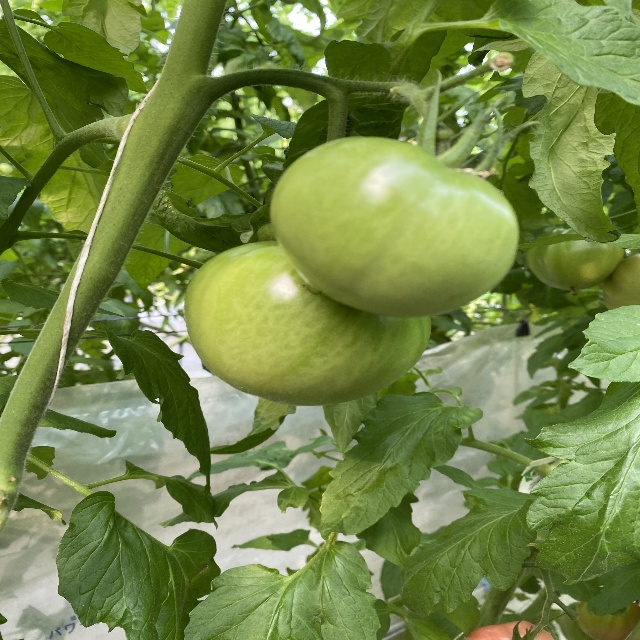b_green: (271, 136, 519, 319), (183, 239, 433, 407), (525, 228, 627, 290), (602, 254, 639, 309)
